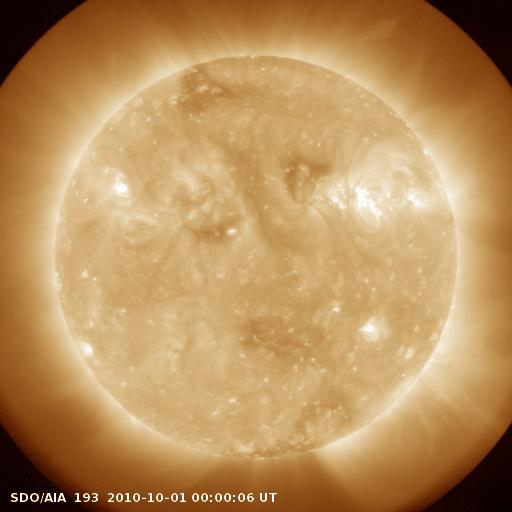coronal_hole: (237, 311, 314, 356), (280, 146, 333, 201)
